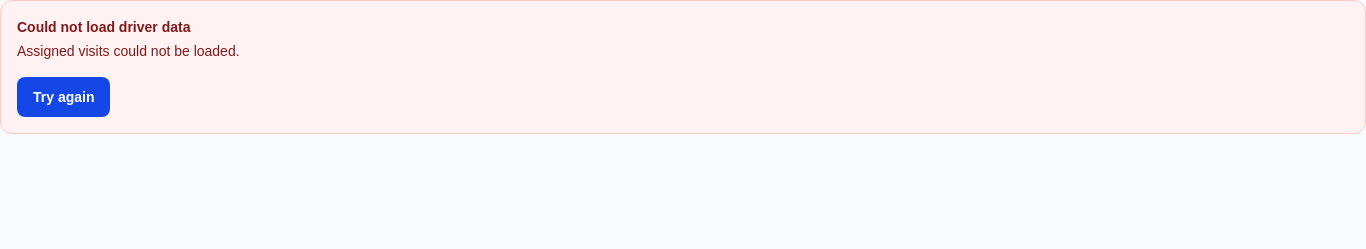
it: DriverVisitsClient › shows an error and retries rather than displaying an empty list
Check: the text "Could not load driver data" is shown, box left=17, top=19, right=190, bottom=35
Click the button "Try again": click(64, 97) left=17, top=77, right=110, bottom=117
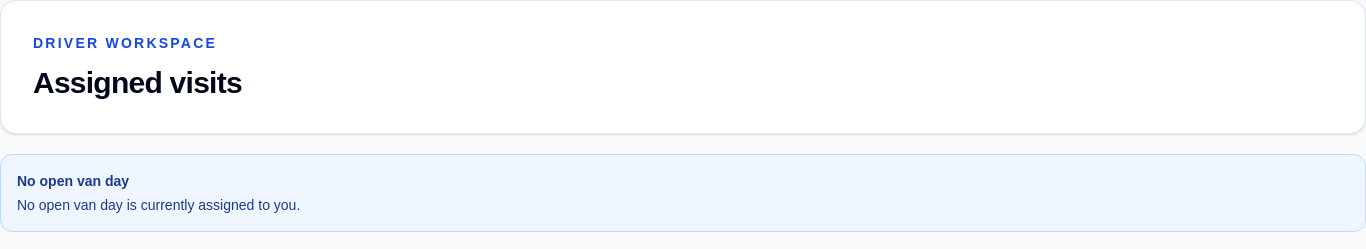
Check: the text "No open van day is currently assigned to you." is shown, box left=17, top=197, right=300, bottom=213
